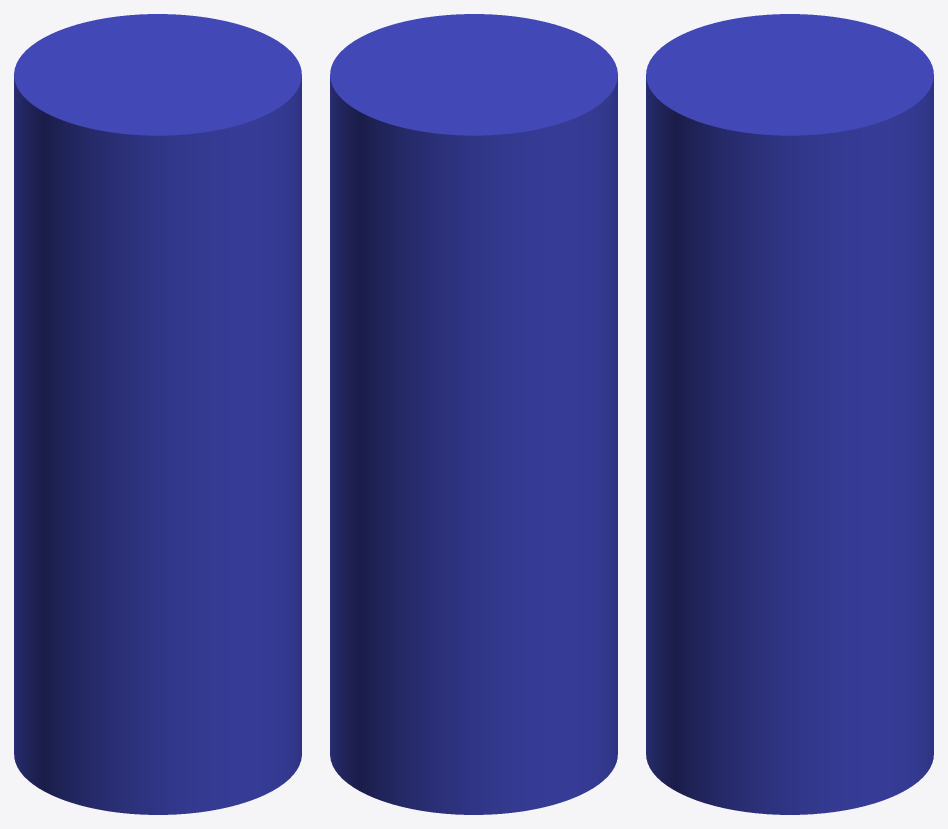
Rendered from test_cylindre.fbx.
3 renders of one model, left to right at view 1: azimuth 30°, elevation 25°; view 2: azimuth 150°, elevation 25°; view 3: azimuth 270°, elevation 25°, orthographic.
Parts seen in each view (by area): view 1: root; view 2: root; view 3: root.
Part boxes in pixels (x1=…): root: x1=14, y1=14, x2=301, y2=814; root: x1=330, y1=14, x2=617, y2=814; root: x1=646, y1=14, x2=933, y2=814.
Size of the model in its own units: 0.1846 by 0.4807 by 0.1846.
